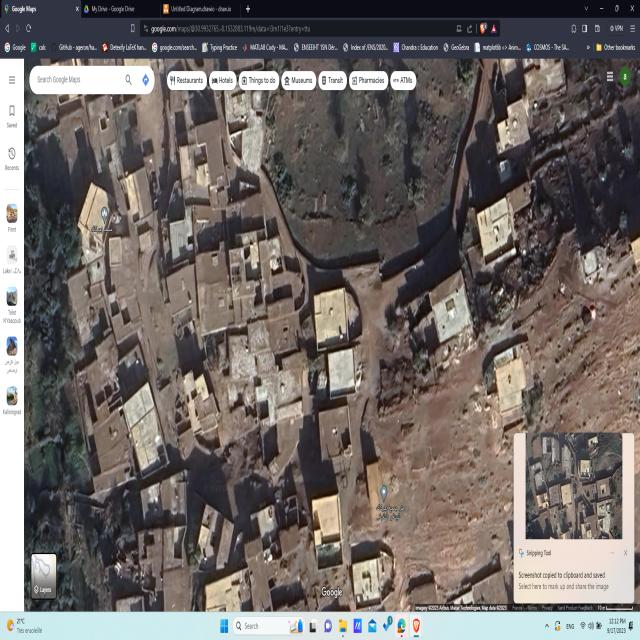Countryside roofs: (123, 380, 173, 473), (306, 294, 352, 395), (424, 268, 473, 358), (494, 96, 540, 190), (193, 236, 233, 344), (174, 360, 223, 438), (69, 264, 113, 346), (196, 485, 240, 563), (316, 409, 365, 475), (486, 344, 529, 418), (474, 200, 518, 270), (74, 356, 119, 422), (176, 134, 215, 208), (309, 494, 342, 573), (116, 168, 156, 230), (318, 351, 365, 403), (85, 90, 122, 153), (77, 184, 111, 243), (348, 554, 379, 611), (134, 524, 166, 576), (164, 220, 195, 264), (161, 478, 188, 527), (162, 529, 184, 579), (139, 489, 162, 522)
